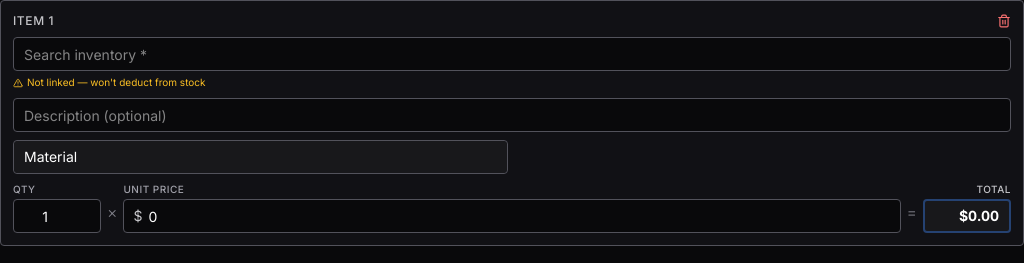
LineItemCard — quick add › quick add failure renders the error in the dropdown and keeps it open, without an unhandled rejection
In the field with placeholder "Search inventory *": [512, 54] box left=13, top=37, right=1011, bottom=71, type "Duplicate Name"
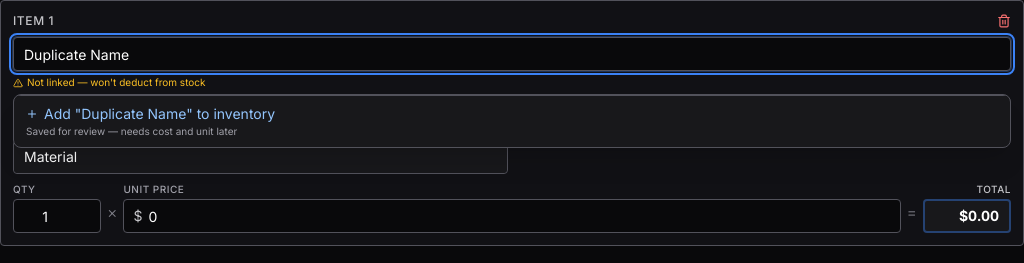
Click the text "Add \"Duplicate Name\" to inventory": [160, 114] box left=44, top=104, right=275, bottom=124
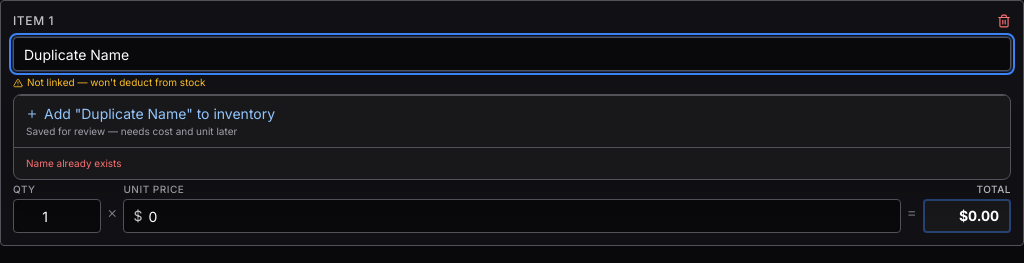
Expected: the text "Add \"Duplicate Name\" to inventory" is shown, left=44, top=104, right=275, bottom=124
Expected: the text "Name already exists" is shown, left=14, top=147, right=1010, bottom=179
